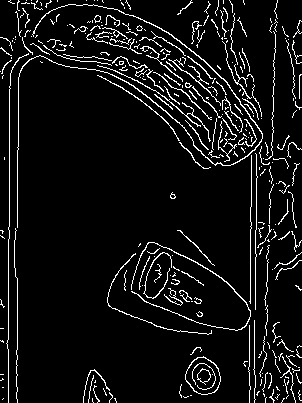cucumber: (24, 2, 268, 169), (132, 245, 253, 341)
